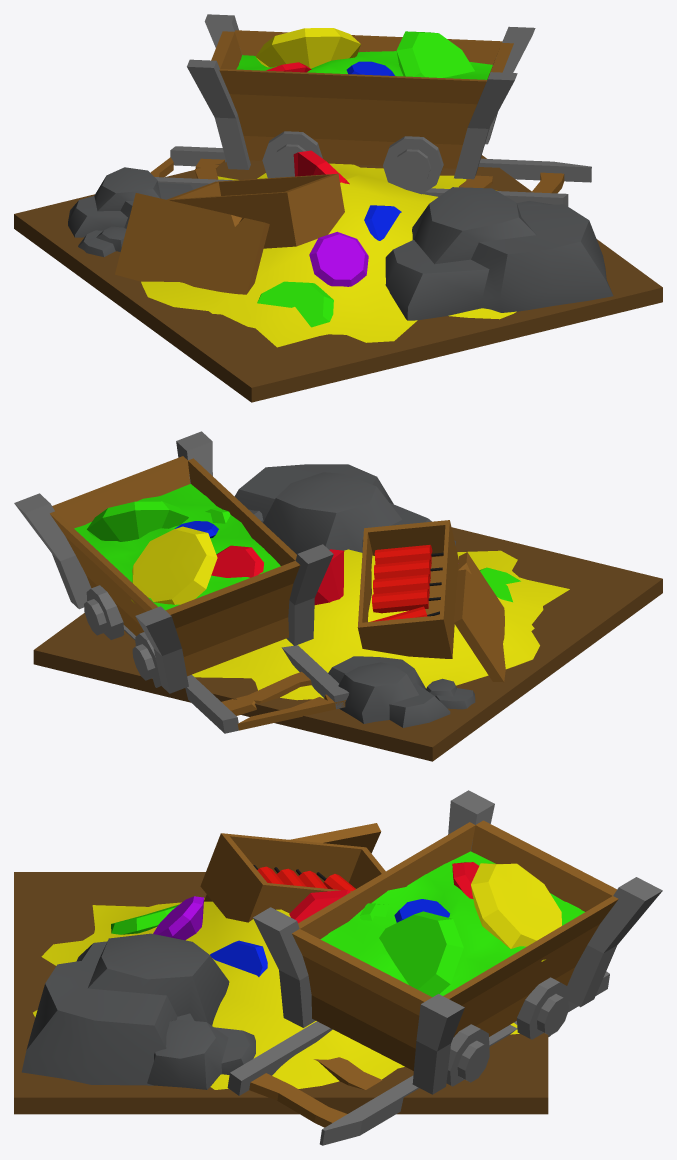
File: CollectionZone.001 (1).fbx
3 views of the same model, one above another, from view 1: azimuth 30°, elevation 25°; view 2: azimuth 150°, elevation 25°; view 3: azimuth 270°, elevation 25° (orthographic). The views are drawn at different scales.
Visible parts, largest first — view 1: Cart.002, Plane, Rock.008, Cylinder.001, CollectionZone.001, Rails.001, Rock.006, Gem.019, Gem.018, Gem.026, Gem.023, Cart.003 (+3 smaller); view 2: Cart.002, Plane, Cylinder.001, CollectionZone.001, Rock.008, Rock.006, Rails.001, Gem.019, Cart.003, Gem.018, Gem.021, Gem.027 (+2 smaller); view 3: Cart.002, Plane, Rock.008, CollectionZone.001, Cylinder.001, Cart.003, Rails.001, Gem.019, Rock.005, Gem.018, Gem.026, Gem.022 (+4 smaller).
Boxes of the visible parts, x1,y1,x2,y2 form: Cart.002: (187,14,535,194); Plane: (14,155,662,402); Rock.008: (385,187,613,320); Cylinder.001: (115,173,344,294); CollectionZone.001: (141,163,516,347); Rails.001: (150,146,591,206); Rock.006: (68,167,193,237); Gem.019: (255,28,360,68); Gem.018: (396,31,474,77); Gem.026: (309,231,368,286); Gem.023: (257,281,333,327); Cart.003: (236,51,492,79); Cart.002: (14,431,333,693); Plane: (33,527,662,761); Cylinder.001: (357,520,505,682); CollectionZone.001: (192,549,569,700); Rock.008: (234,464,455,554); Rock.006: (328,656,450,727); Rails.001: (123,625,349,733); Gem.019: (131,526,217,604); Cart.003: (74,484,280,610); Gem.018: (87,501,188,541); Gem.021: (211,545,263,577); Gem.027: (314,549,344,604); Cart.002: (253,790,662,1094); Plane: (14,872,548,1114); Rock.008: (21,933,229,1085); CollectionZone.001: (33,898,519,1089); Cylinder.001: (200,823,385,922); Cart.003: (320,851,584,995); Rails.001: (227,971,609,1145); Gem.019: (471,863,561,961); Rock.005: (147,1013,255,1089); Gem.018: (379,911,463,996); Gem.026: (153,896,204,940); Gem.022: (210,940,267,976).
Bounding box in the file's own units: 7.05 × 7.36 × 2.42.
